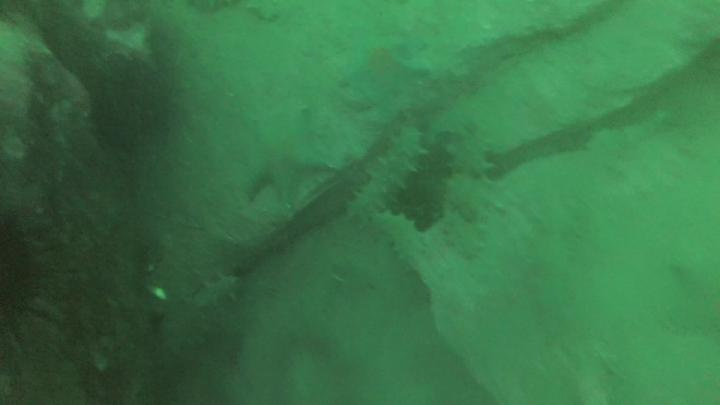echinus: (1, 213, 64, 343)
holothurian: (350, 121, 422, 225), (449, 114, 491, 265), (190, 273, 245, 304)
starfish: (340, 37, 432, 109), (245, 141, 328, 208)
